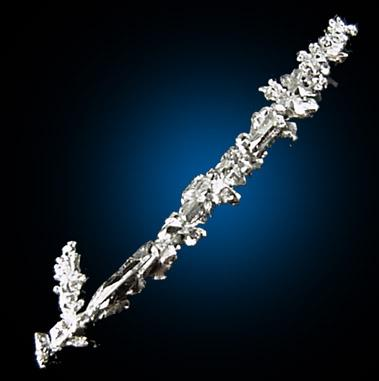silver: (34, 16, 358, 369)
